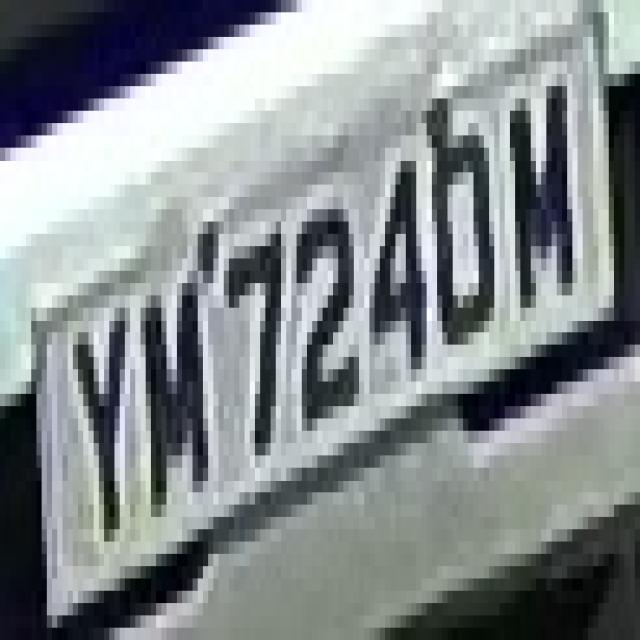0: (422, 98, 494, 370)
2: (286, 160, 375, 468)
4: (348, 111, 426, 406)
7: (214, 185, 286, 492)
M: (125, 258, 218, 542), (494, 37, 578, 332)
Y: (68, 258, 135, 554)
